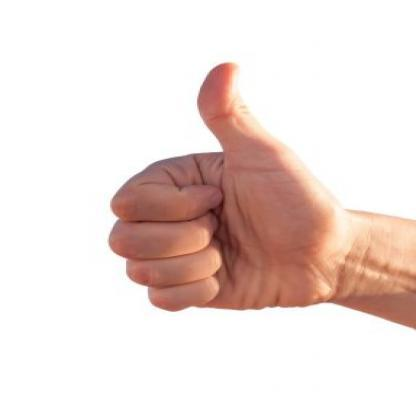thumb_up: (103, 57, 343, 316)
